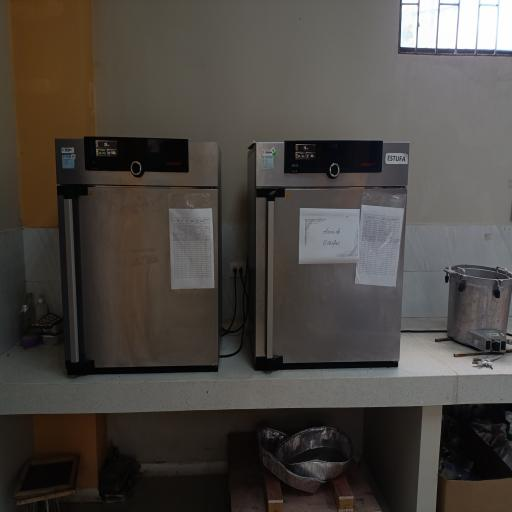Estufa_Memmert: (242, 131, 417, 376)
Memmert_Unidad2: (47, 126, 228, 386)
